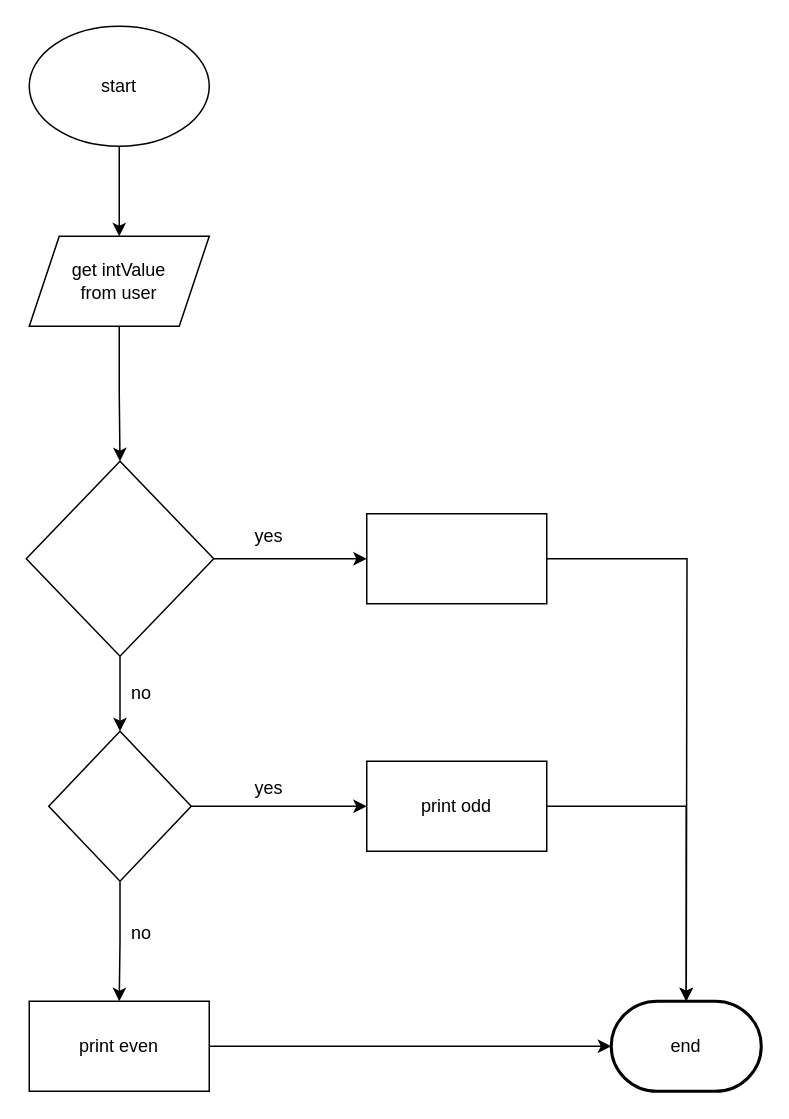
This 789x1119 diagram has some shape labels left out. The box of each missing label's shape, as (x1, y1, x2, y2) in pixels:
is intValue non-numeric?: (25, 460, 214, 656)
is intValue odd?: (47, 730, 191, 881)
print N/A: (365, 512, 547, 604)
